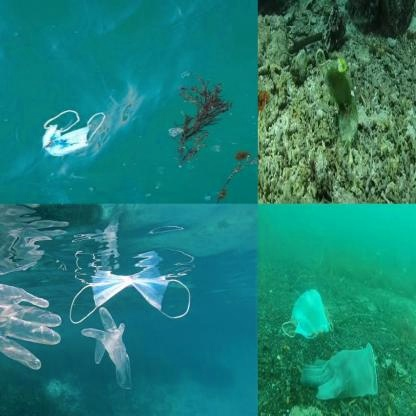Mask: (62, 254, 197, 326), (316, 47, 358, 158), (35, 107, 105, 156), (281, 288, 334, 337)
glove: (0, 235, 65, 398), (70, 309, 151, 395), (300, 342, 378, 400)
